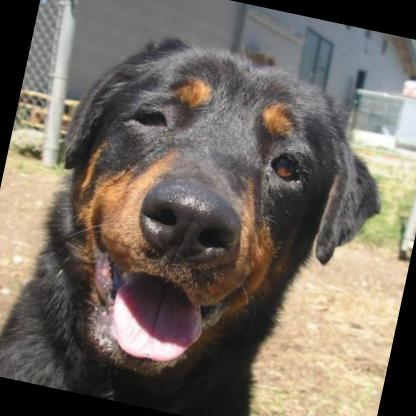Rottweiler: (0, 11, 405, 416)
